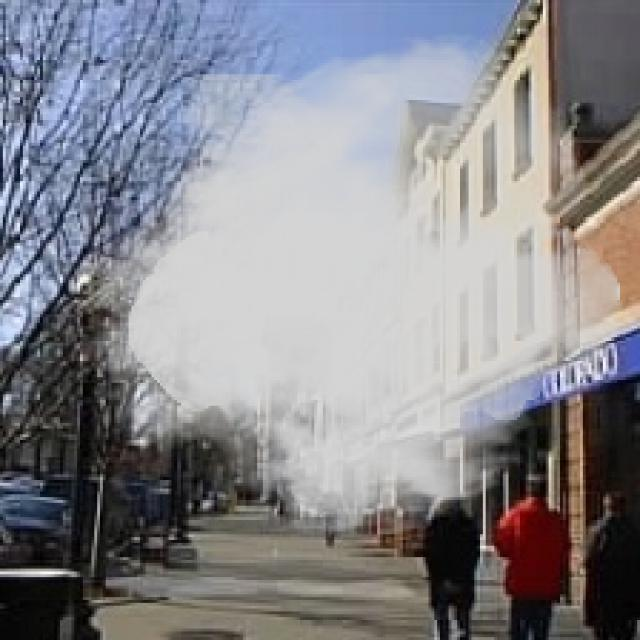Smoke: (71, 28, 623, 543)
